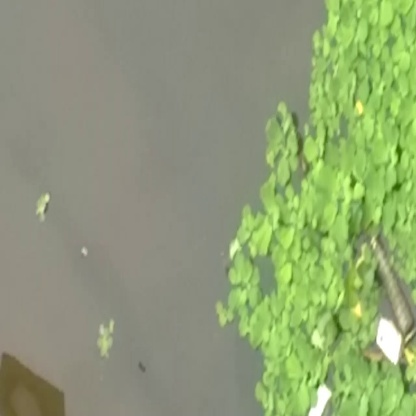grass: (231, 134, 355, 353)
